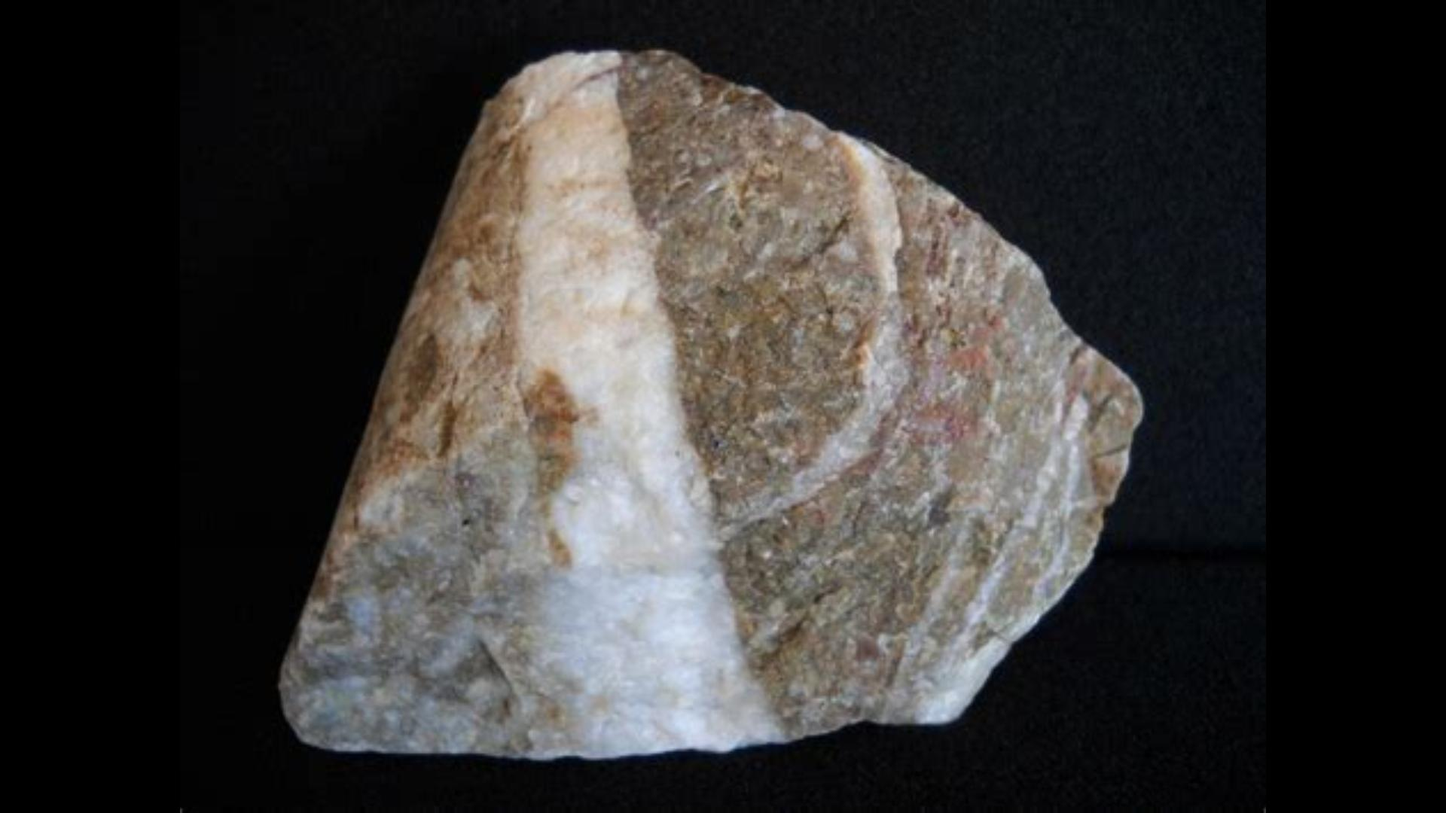rock: (283, 50, 1135, 751)
